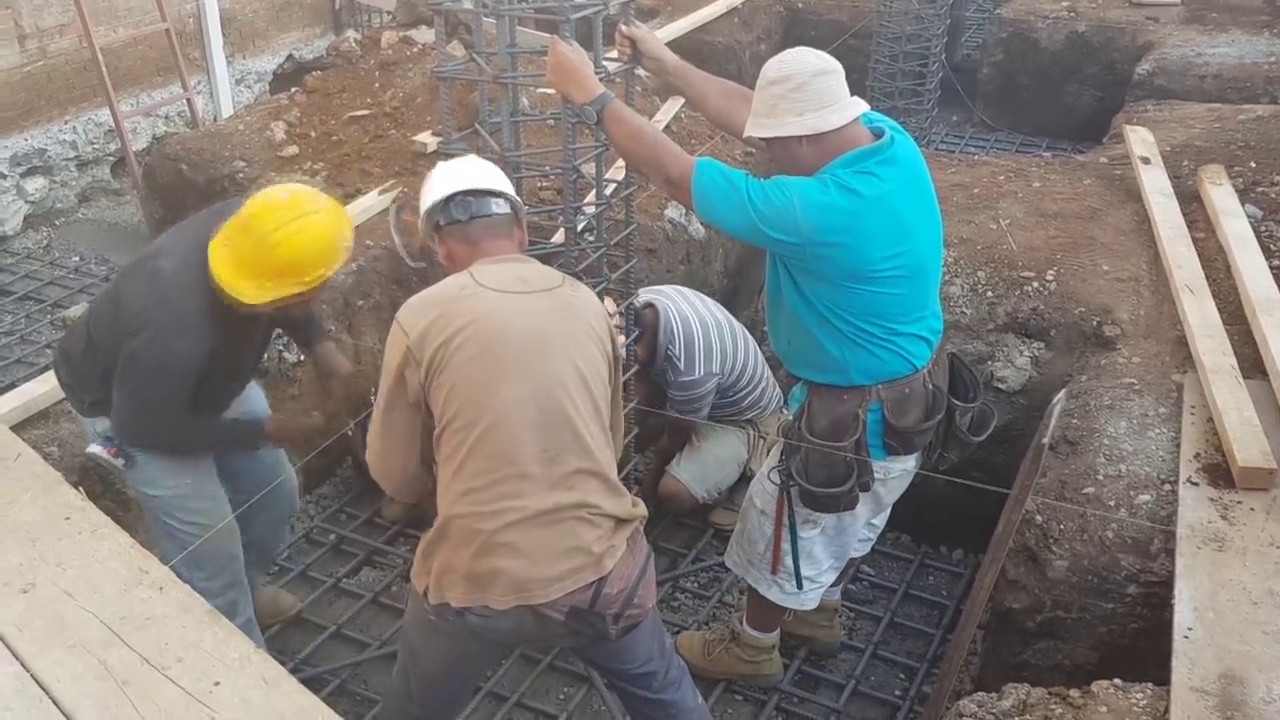helmet: (210, 184, 349, 305), (415, 148, 521, 239)
helmet-off: (741, 45, 877, 176)
helmet-on: (196, 177, 357, 326), (405, 147, 537, 285)
person: (581, 0, 957, 694), (355, 137, 682, 703), (58, 146, 350, 654), (611, 276, 777, 570)
